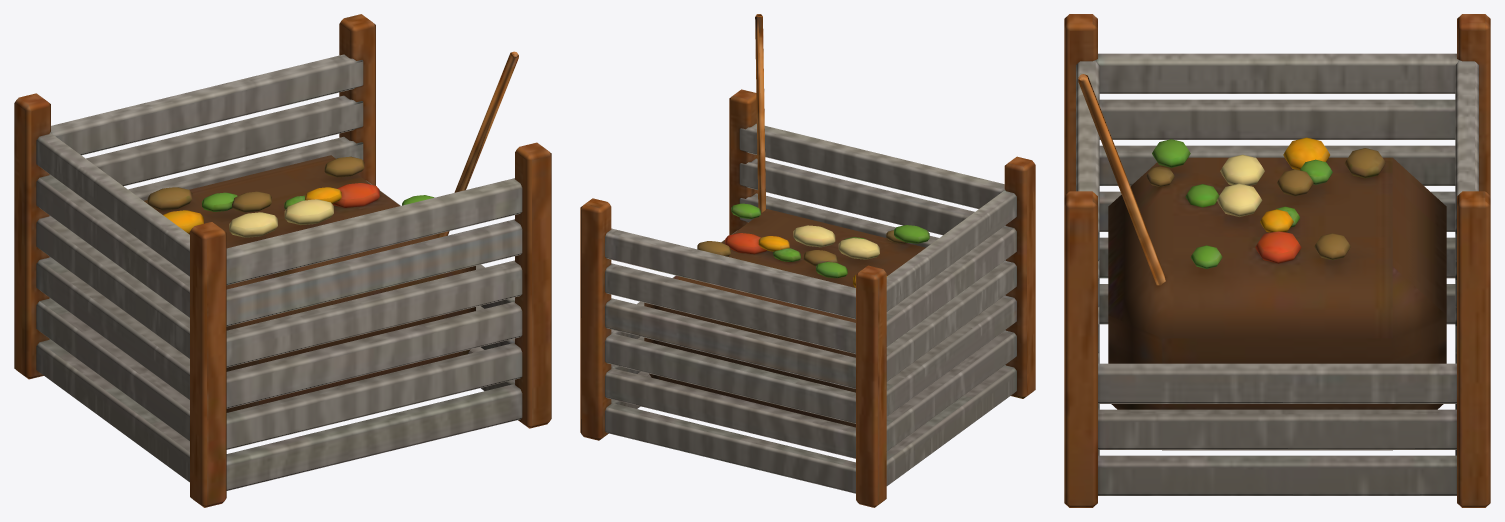
Rendered from compost_bin.glb.
3 views of the same model, side by side, from view 1: azimuth 30°, elevation 25°; view 2: azimuth 150°, elevation 25°; view 3: azimuth 270°, elevation 25° (orthographic). The views are drawn at different scales.
Visible parts, largest first — view 1: compost_bin; view 2: compost_bin; view 3: compost_bin.
Part boxes in pixels (x1,y1,x2,y2): compost_bin: (14, 14, 551, 507); compost_bin: (580, 14, 1035, 507); compost_bin: (1064, 14, 1490, 507).
Bounding box in the file's own units: 0.67 × 0.6822 × 0.63.
Materials: 1 (1 with a texture image).
